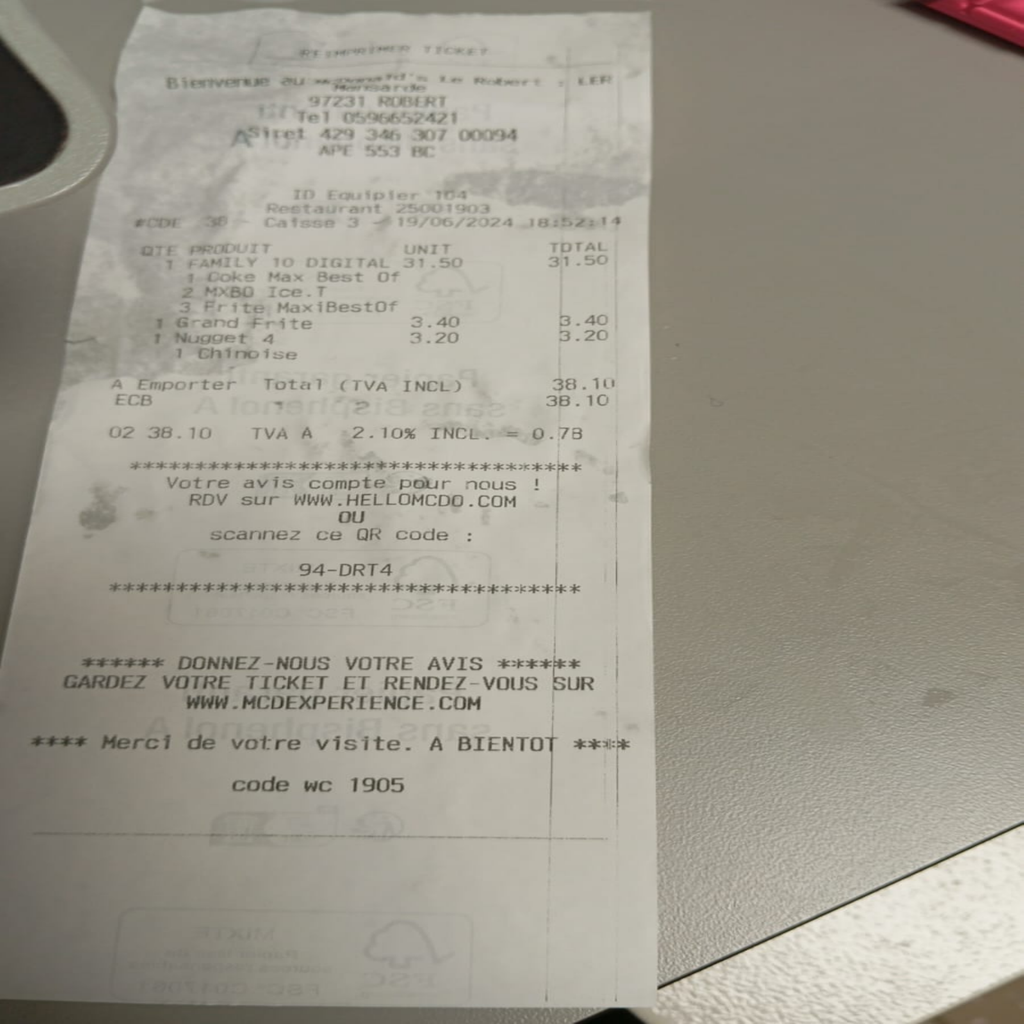recipt: (0, 5, 655, 842)
